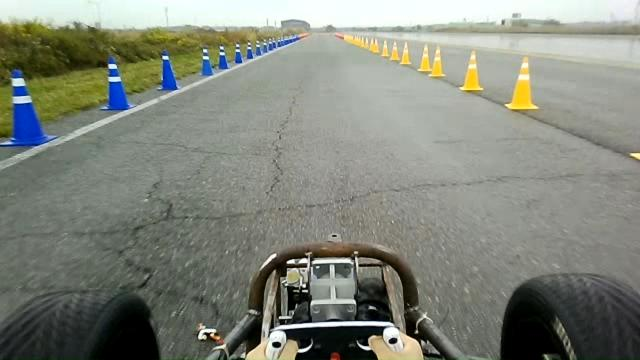blue cone: (0, 68, 58, 146), (99, 56, 136, 111), (157, 49, 180, 91), (199, 47, 214, 76), (218, 44, 230, 69), (234, 42, 243, 63)
yellow cone: (504, 56, 539, 110), (459, 50, 483, 92), (428, 45, 446, 78), (399, 41, 411, 65), (390, 40, 400, 61), (381, 39, 389, 57)
